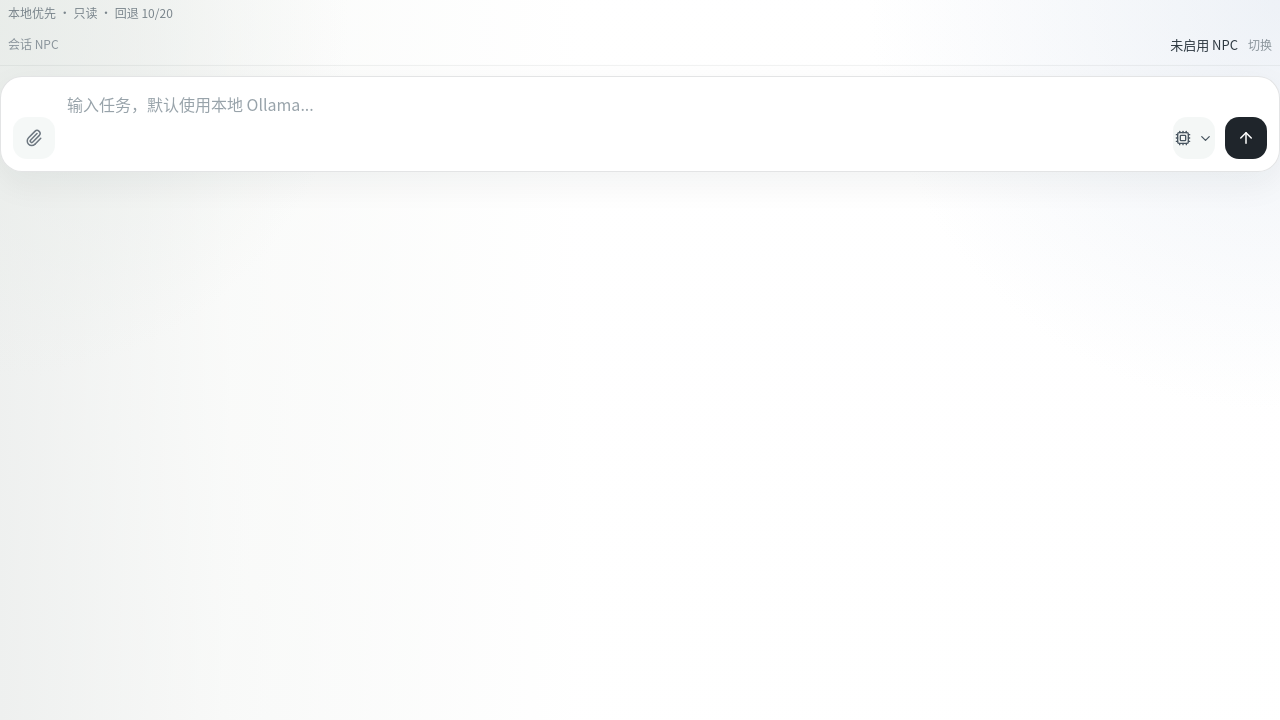
it: Composer › keeps only one model selector in the composer
The image size is (1280, 720).
Click the button named "选择模型：qwen2.5-coder:7b" at (1194, 138), box [1173,117,1215,159]
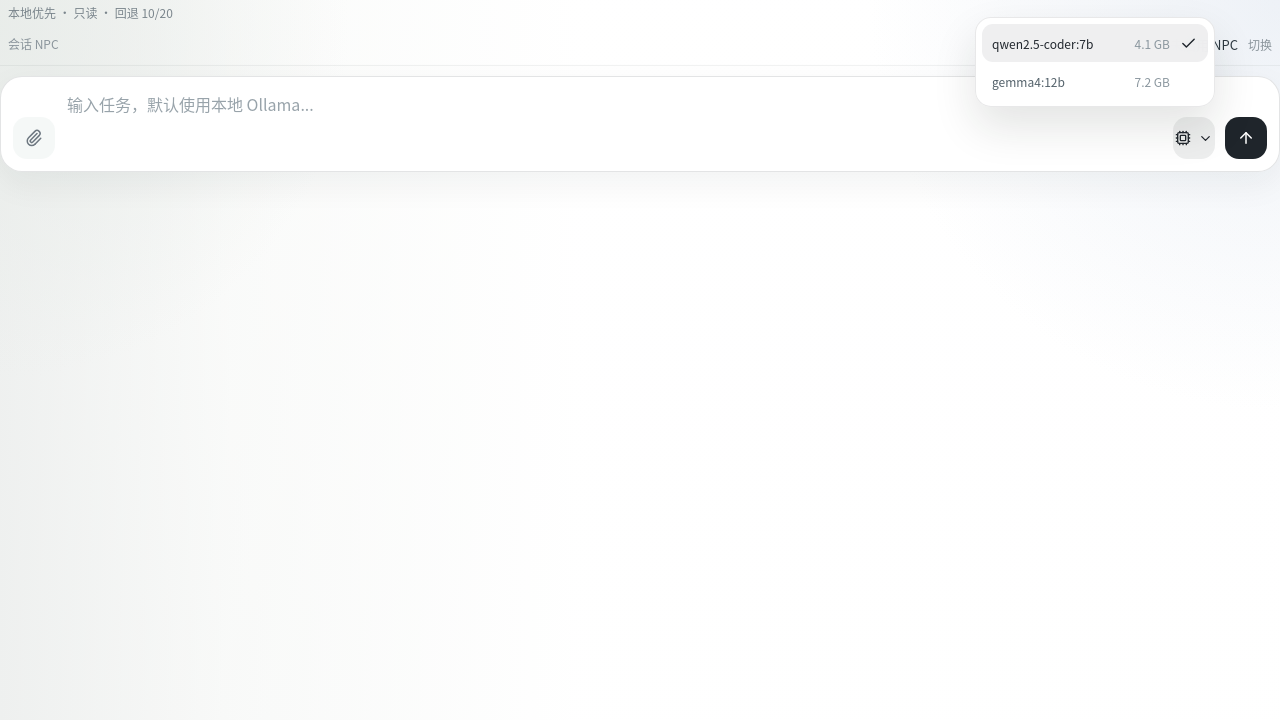
Now the menu item "qwen2.5-coder:7b 4.1 GB" is shown, box [982,24,1208,62]
Now the menu item "gemma4:12b 7.2 GB" is shown, box [982,62,1208,100]
